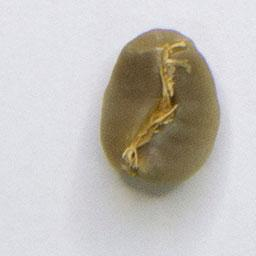premium: (96, 25, 224, 190)
